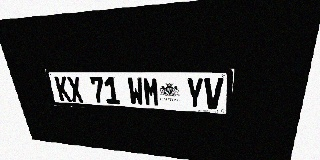1: (103, 77, 120, 104)
7: (89, 77, 107, 104)
K: (54, 76, 72, 102)
M: (142, 77, 160, 107)
V: (204, 78, 223, 110)
W: (127, 77, 145, 106)
X: (66, 76, 84, 102)
Y: (186, 78, 204, 109)
